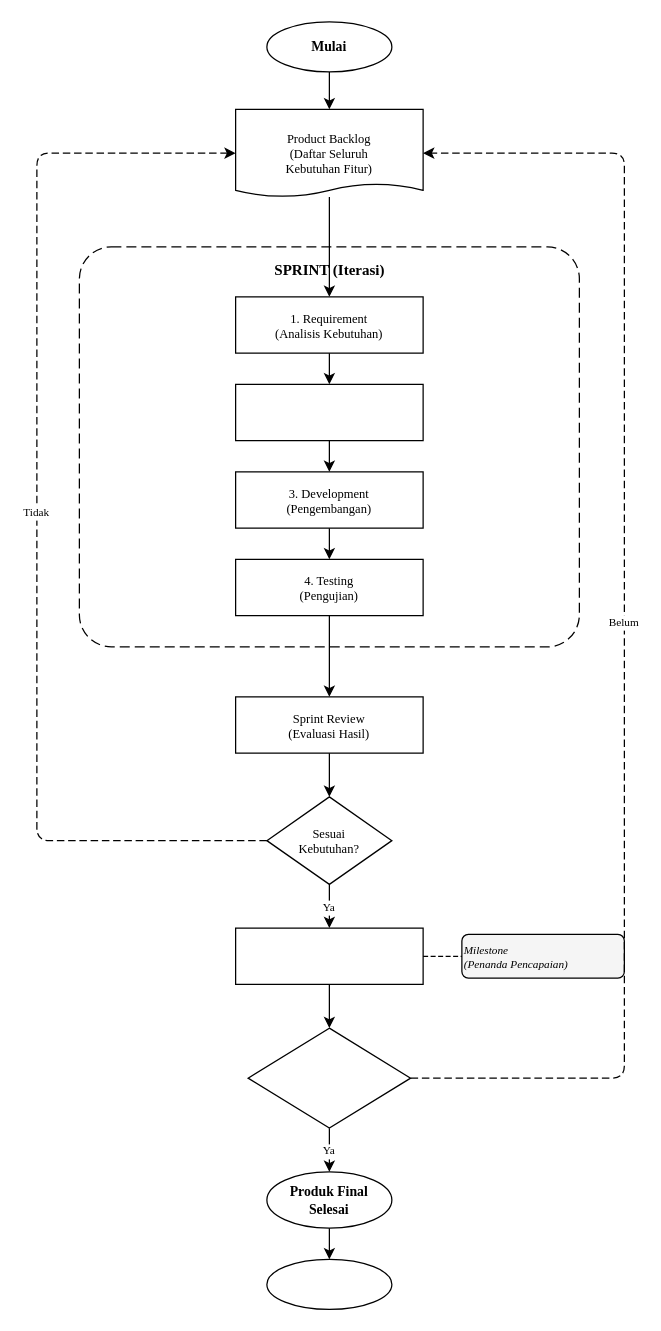
Some shapes in this 661 by 1331 pixel diagram are drawn without their labels. Each missing label, with the box of its shape:
2. Design (Perancangan): (234, 383, 423, 441)
Increment (Produk Berfungsi): (234, 927, 423, 984)
Selesai: (266, 1258, 392, 1309)
Semua Backlog Terpenuhi?: (247, 1027, 411, 1128)
